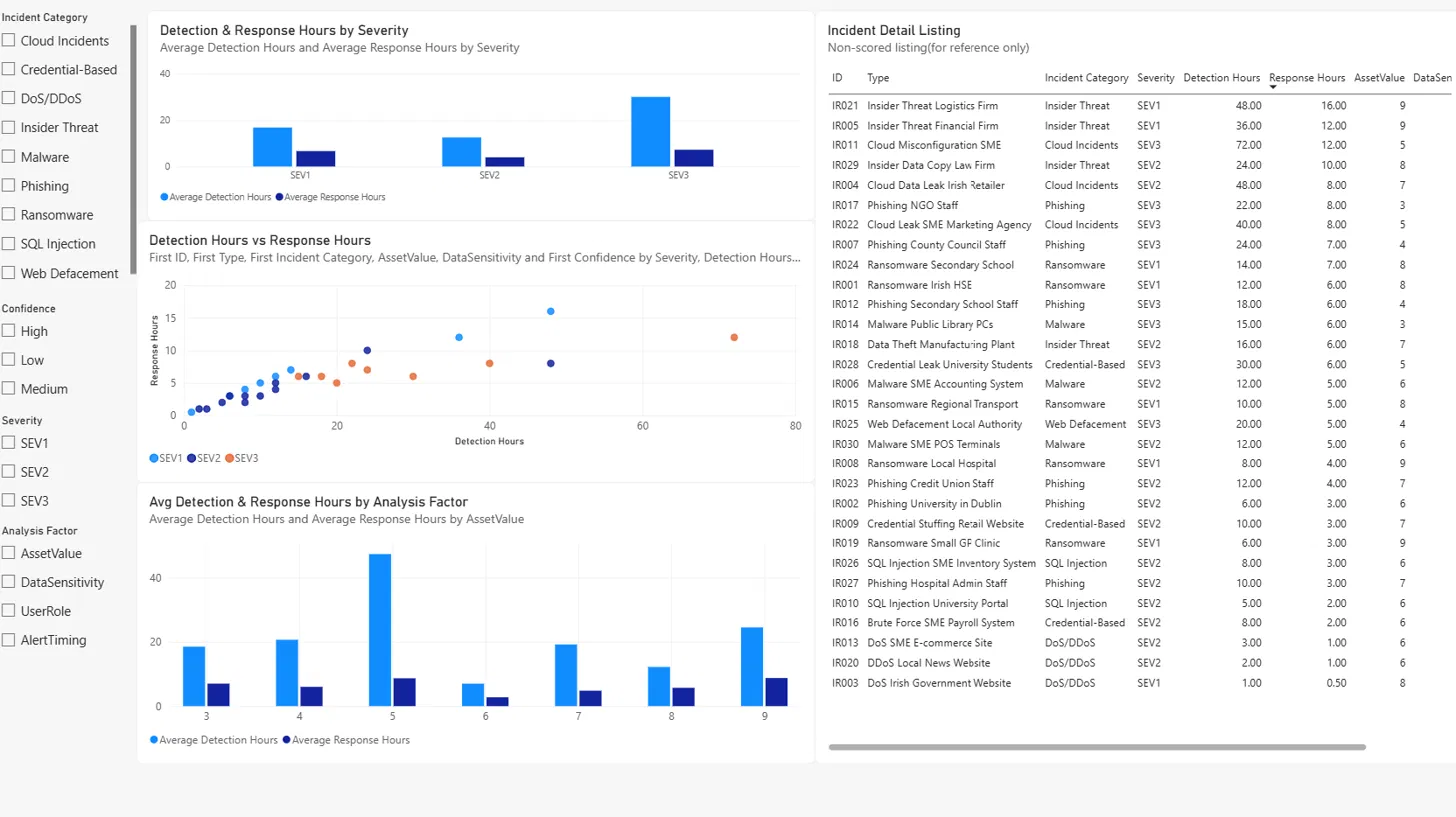

Layout of this report page (visuals, bound fields, positions):
{"tool":"powerbi","page":{"name":"Risk and Response Analysis","canvas":[1920,1080],"ordinal":1},"visuals":[{"type":"scatterChart","title":"Detection Hours vs Response Hours","fields":{"Series":["CyberIncidents.Severity"],"X":["CyberIncidents.Detection Hours"],"Y":["CyberIncidents.Response Hours"]},"box":[184,288,886,342],"z":0},{"type":"slicer","fields":{"Values":["CyberIncidents.Incident Category"]},"box":[0,14,184,356],"z":1000},{"type":"slicer","fields":{"Values":["CyberIncidents.Confidence"]},"box":[0,394,198,146],"z":2000},{"type":"slicer","fields":{"Values":["CyberIncidents.Severity"]},"box":[0,540,184,178],"z":3000},{"type":"clusteredColumnChart","title":"Detection & Response Hours by Severity","fields":{"Category":["CyberIncidents.Severity"],"Y":["CyberIncidents.Average Detection Hours","CyberIncidents.Average Response Hours"]},"box":[198,14,872,274],"z":4000},{"type":"slicer","fields":{"Values":["Analysis Factor.Analysis Factor"]},"box":[0,684,198,314],"z":5000},{"type":"clusteredColumnChart","title":"Avg Detection & Response Hours by Analysis Factor","fields":{"Category":["CyberIncidents.AssetValue","CyberIncidents.DataSensitivity","CyberIncidents.UserRole","CyberIncidents.AlertTiming"],"Y":["CyberIncidents.Average Detection Hours","CyberIncidents.Average Response Hours"]},"box":[184,630,886,368],"z":6000},{"type":"tableEx","title":"Incident Detail Listing","fields":{"Values":["CyberIncidents.ID","CyberIncidents.Type","CyberIncidents.Incident Category","CyberIncidents.Severity","CyberIncidents.Detection Hours","CyberIncidents.Response Hours","CyberIncidents.AssetValue","CyberIncidents.DataSensitivity","CyberIncidents.Confidence"]},"box":[1070,14,850,984],"z":7000}]}

Visuals, with their boxes in screenshot pixels (x1, y1, x2, y2), scaled from the page's 1920x1080 canvas onto the 1456x817 screenshot:
"Detection Hours vs Response Hours" scatterChart: region(140, 218, 811, 477)
slicer - CyberIncidents.Incident Category: region(0, 11, 140, 280)
slicer - CyberIncidents.Confidence: region(0, 298, 150, 408)
slicer - CyberIncidents.Severity: region(0, 408, 140, 543)
"Detection & Response Hours by Severity" clusteredColumnChart: region(150, 11, 811, 218)
slicer - Analysis Factor.Analysis Factor: region(0, 517, 150, 755)
"Avg Detection & Response Hours by Analysis Factor" clusteredColumnChart: region(140, 477, 811, 755)
"Incident Detail Listing" tableEx: region(811, 11, 1455, 755)
